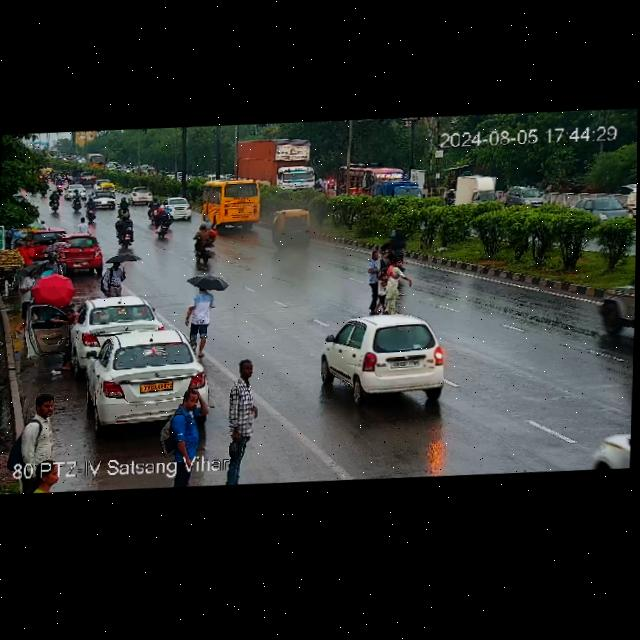bus: (199, 176, 262, 225)
car: (318, 310, 449, 408), (84, 332, 208, 430), (23, 296, 180, 367), (598, 262, 636, 365), (43, 232, 105, 277), (271, 206, 315, 252), (574, 194, 632, 222), (508, 185, 546, 209), (164, 197, 192, 222), (129, 187, 153, 206)
motorcycle: (190, 219, 222, 268), (114, 209, 140, 247), (152, 208, 172, 242), (82, 197, 101, 226), (114, 194, 134, 218), (48, 188, 58, 216)
person: (224, 354, 272, 486), (7, 391, 62, 494), (158, 390, 205, 480), (182, 284, 218, 357), (364, 249, 390, 312), (384, 259, 413, 306), (99, 258, 132, 298)
truck: (234, 135, 316, 190), (336, 161, 408, 198), (451, 174, 498, 205), (375, 179, 425, 200)
